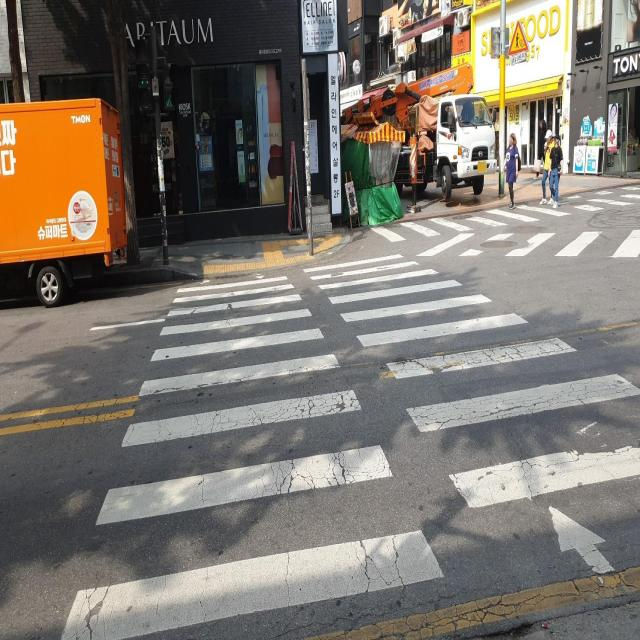횡단보도: (56, 246, 640, 640), (370, 182, 640, 245)
